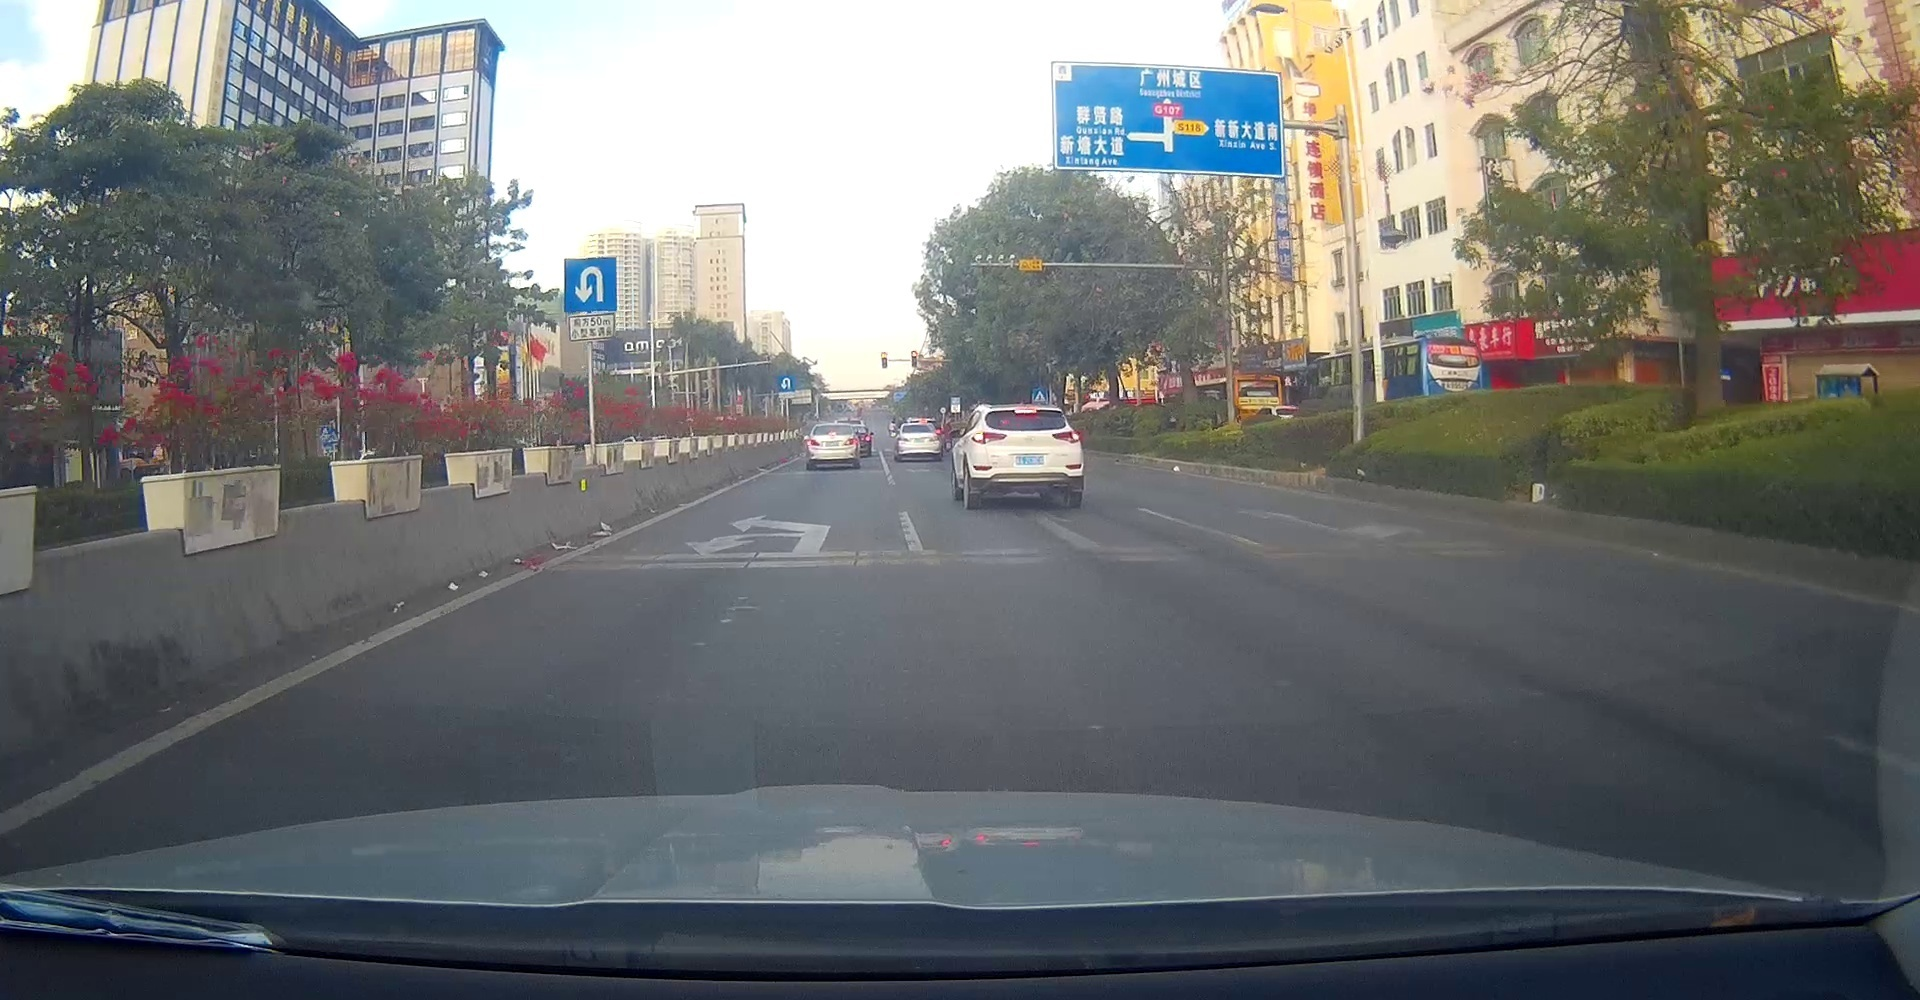L_light: (970, 431, 1007, 444), (808, 439, 819, 445)
R_light: (1051, 430, 1079, 443), (844, 438, 857, 445)
T_light: (1015, 409, 1036, 412), (828, 431, 837, 435)
day-brake: (970, 404, 1083, 508), (808, 424, 858, 470)
